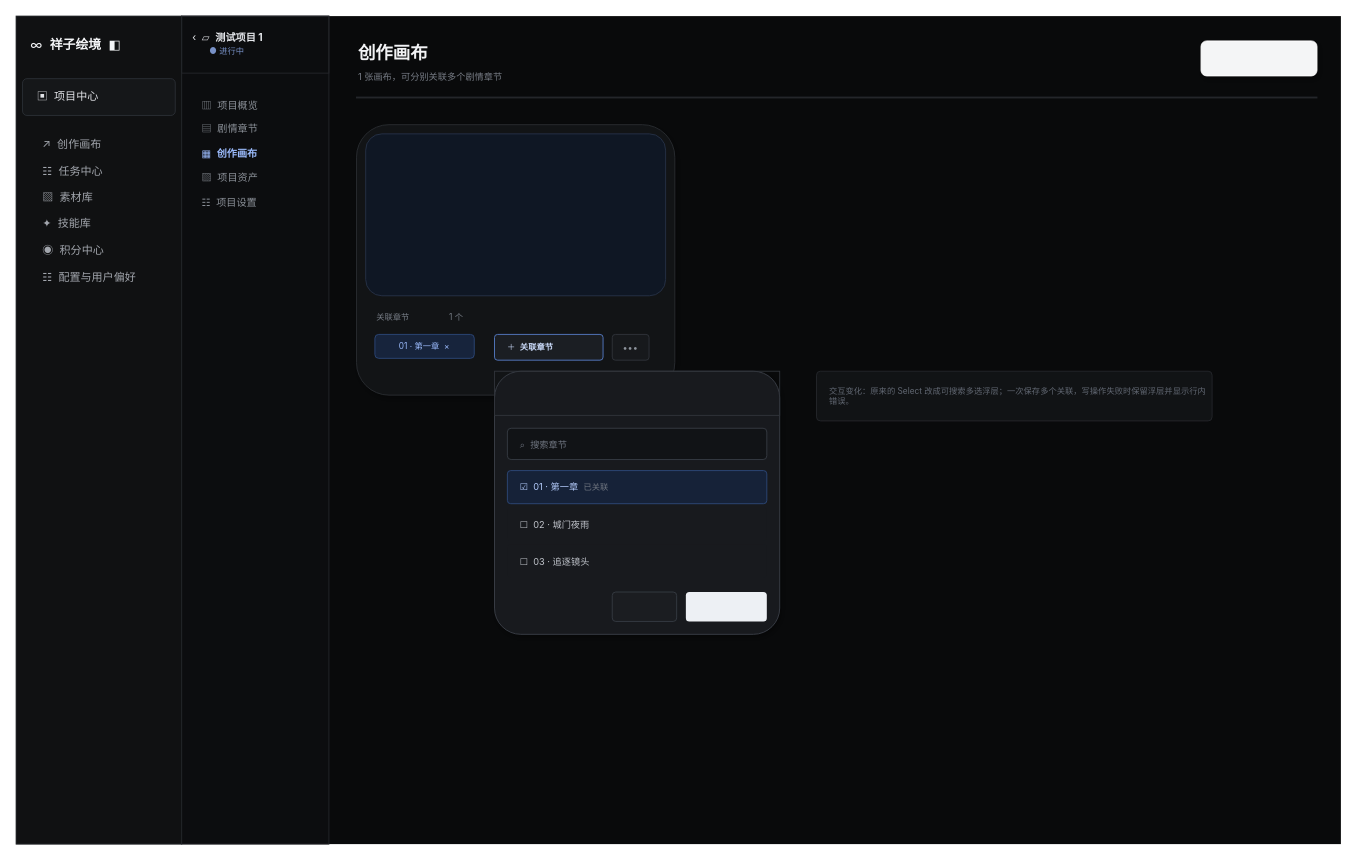
Some shapes in this 1357 by 860 pixel diagram are drawn without their labels. Here are the shapes that lost their labels. From the top down, the centre of each, then its label:
At (1259,59): "＋ 新建画布".
At (515,214): "画布 01 111 更新于 07/24 22:24".
At (637,392): "关联剧情章节 ×".
At (644,606): "取消".
At (725,606): "保存关联".
